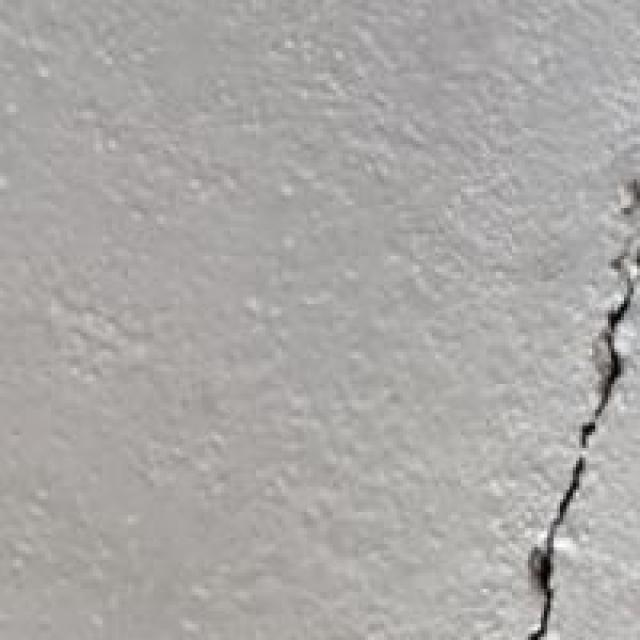Crack: (490, 186, 637, 637)
